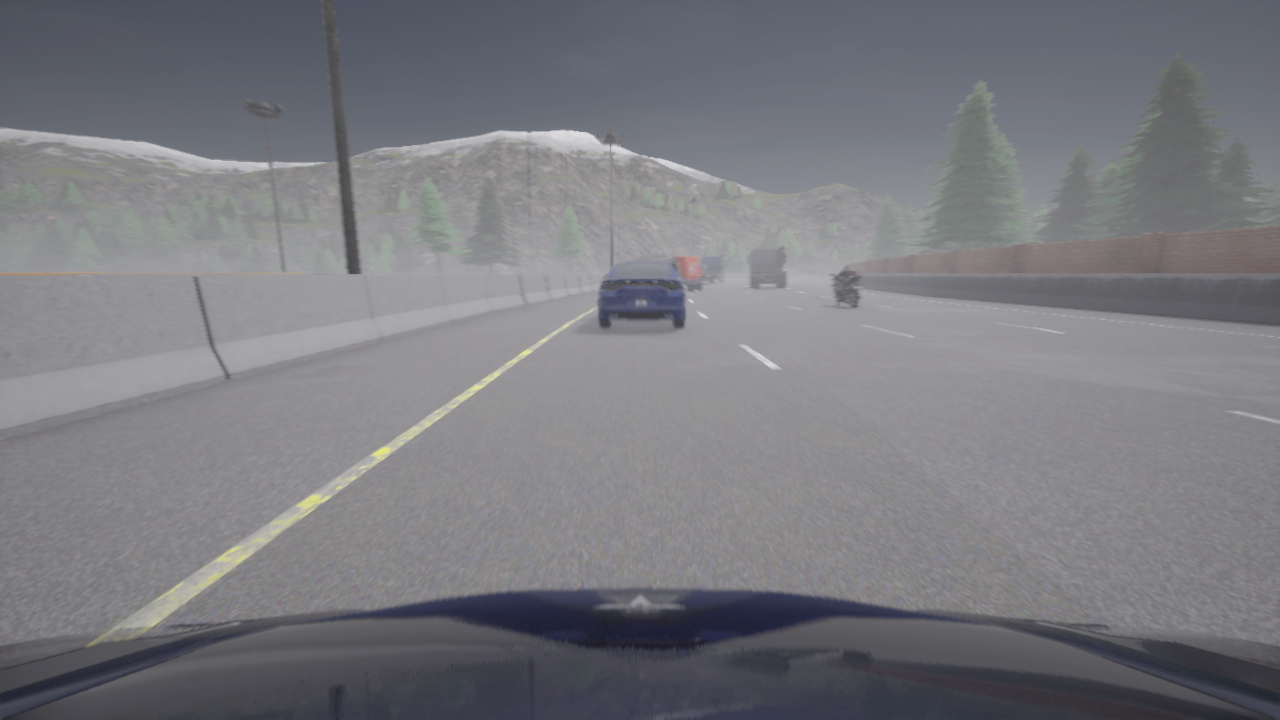cyclist: (0, 588, 1279, 719), (599, 259, 685, 327), (747, 247, 786, 288), (670, 255, 706, 290), (831, 274, 864, 308), (635, 256, 680, 274), (701, 254, 727, 283)
